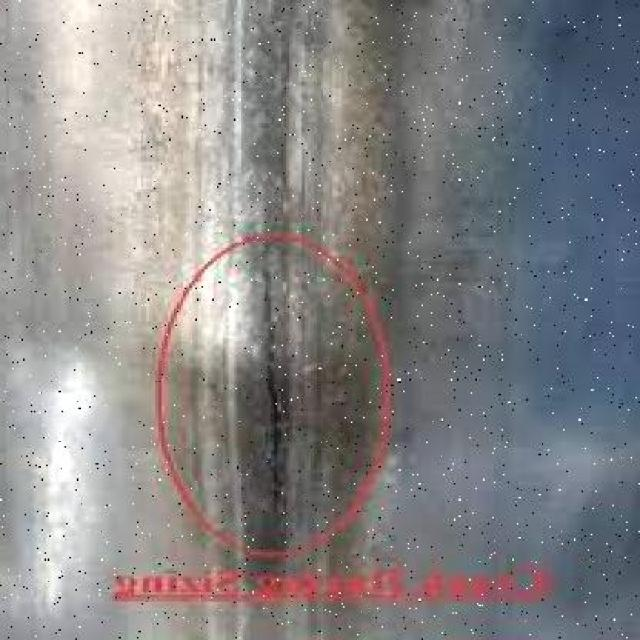Crack: (246, 258, 320, 517)
